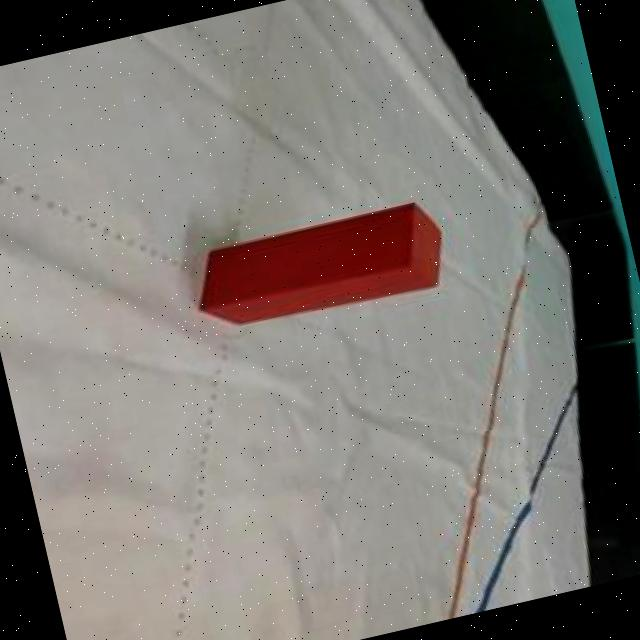redbox: (188, 196, 454, 339)
